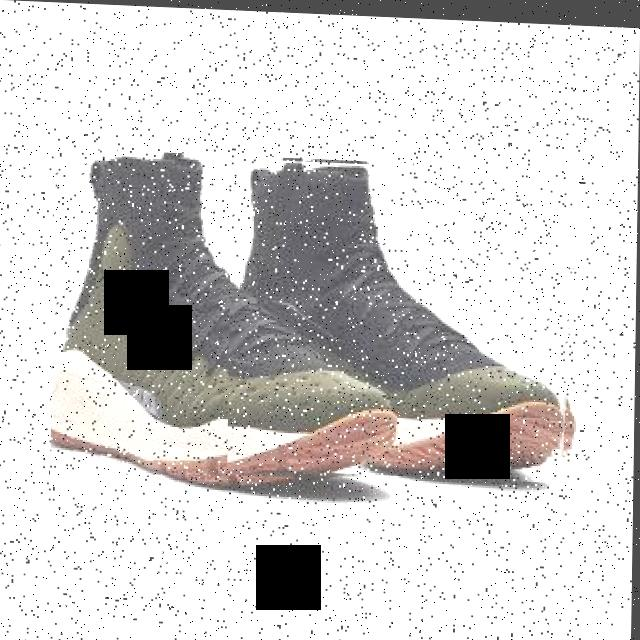shoe: (51, 147, 415, 488), (229, 156, 580, 478)
